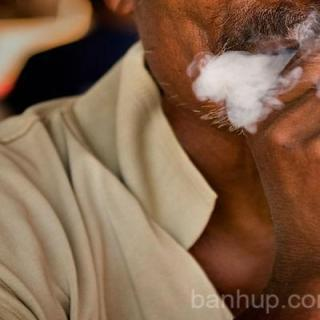smoke: (184, 48, 306, 126)
